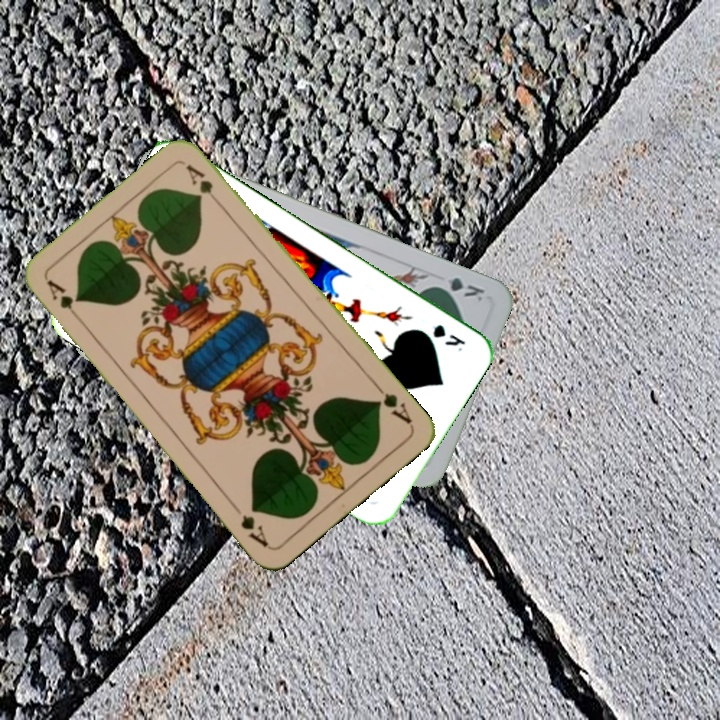GA: (42, 275, 86, 326), (370, 379, 415, 427)
GK: (429, 272, 488, 305), (428, 320, 468, 349)
